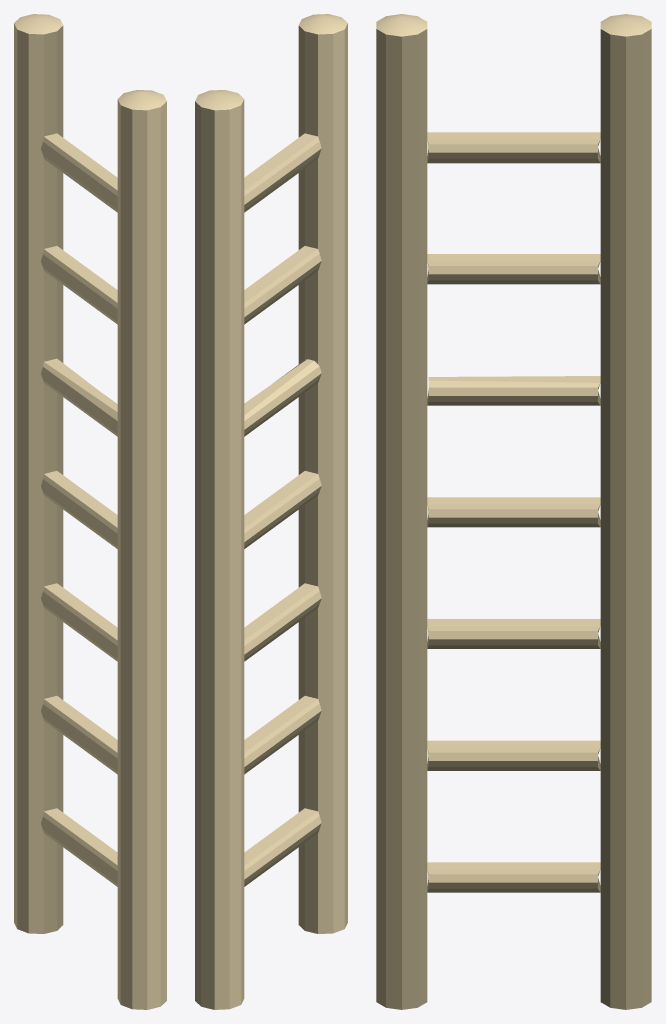
Rendered from ladder.fbx.
3 views of the same model, side by side, from view 1: azimuth 30°, elevation 25°; view 2: azimuth 150°, elevation 25°; view 3: azimuth 270°, elevation 25° (orthographic). The views are drawn at different scales.
Visible parts, largest first — view 1: pCylinder11; view 2: pCylinder11; view 3: pCylinder11.
Part boxes in pixels (x1=…): pCylinder11: x1=14, y1=14, x2=166, y2=1009; pCylinder11: x1=195, y1=14, x2=347, y2=1009; pCylinder11: x1=376, y1=14, x2=651, y2=1009.
Bounding box in the file's own units: 1.08 × 21.91 × 5.55.
